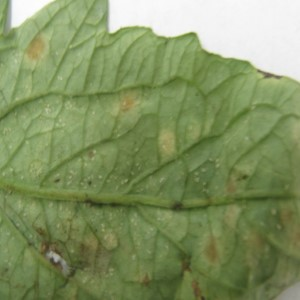cladosporium: (24, 33, 43, 59), (119, 94, 137, 113), (206, 239, 219, 264), (191, 280, 205, 298), (225, 179, 240, 193)
